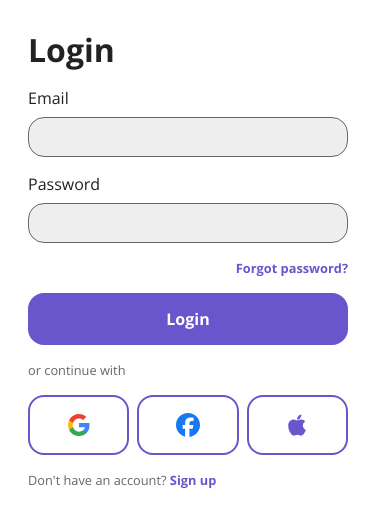
Test: Login page › surfaces a failed login through the error channel
This screenshot has width=365, height=528.
Step 1. Type "ada@example.com" into the field labelled "Email" → (188, 137), box [28, 117, 348, 157]
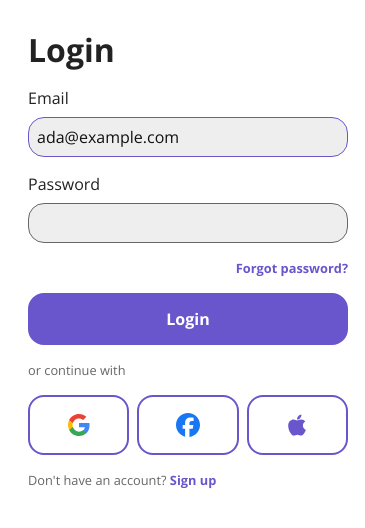
Step 2. Type "wrong" into the password field labelled "Password" → (188, 223), box [28, 203, 348, 243]
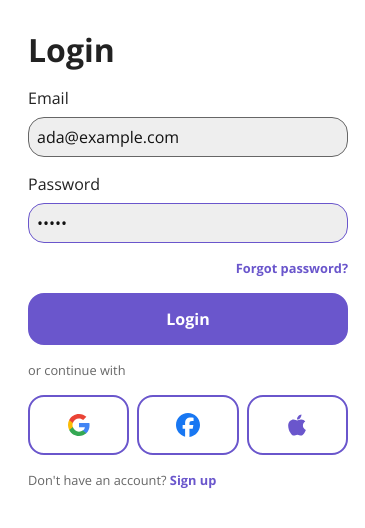
Step 3. Click the button "Login" → (188, 319), box [28, 293, 348, 345]
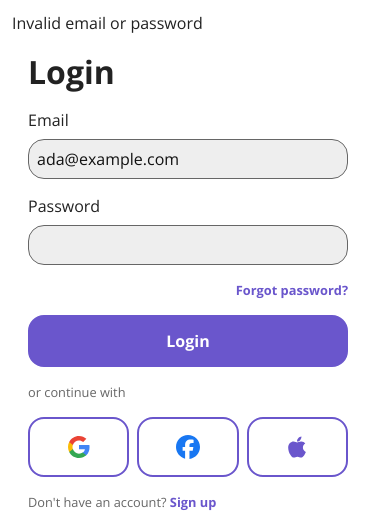
Expected: the text with test id "error" reads "Invalid email or password", [12, 12, 203, 34]
